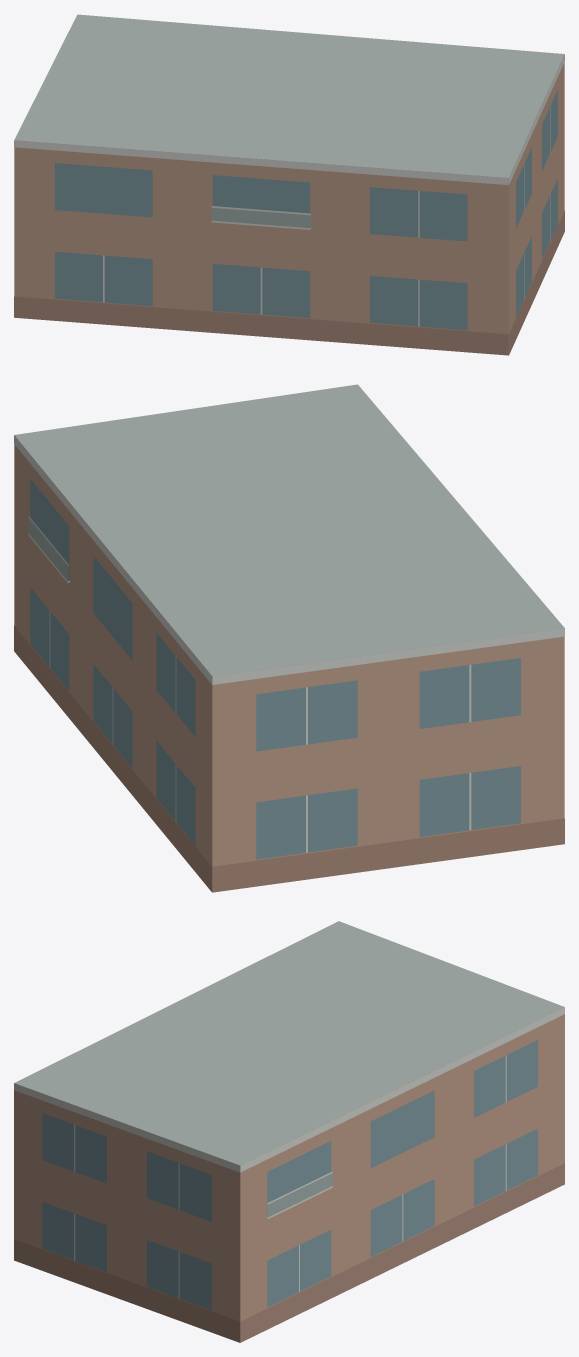
The model's file is survey-upis-32893276.glb.
3 renders of one model, top to bottom at view 1: azimuth 30°, elevation 25°; view 2: azimuth 150°, elevation 25°; view 3: azimuth 270°, elevation 25°, orthographic. The views are drawn at different scales.
Parts seen in each view (by area): view 1: survey-upis-32893276.tmp; view 2: survey-upis-32893276.tmp; view 3: survey-upis-32893276.tmp.
Boxes of the visible parts, box(x1,y1,x2,y2) form: survey-upis-32893276.tmp: box(14, 14, 564, 355); survey-upis-32893276.tmp: box(14, 384, 564, 892); survey-upis-32893276.tmp: box(14, 921, 564, 1342).
Bounding box in the file's own units: 18.04 × 6.1 × 17.18.
